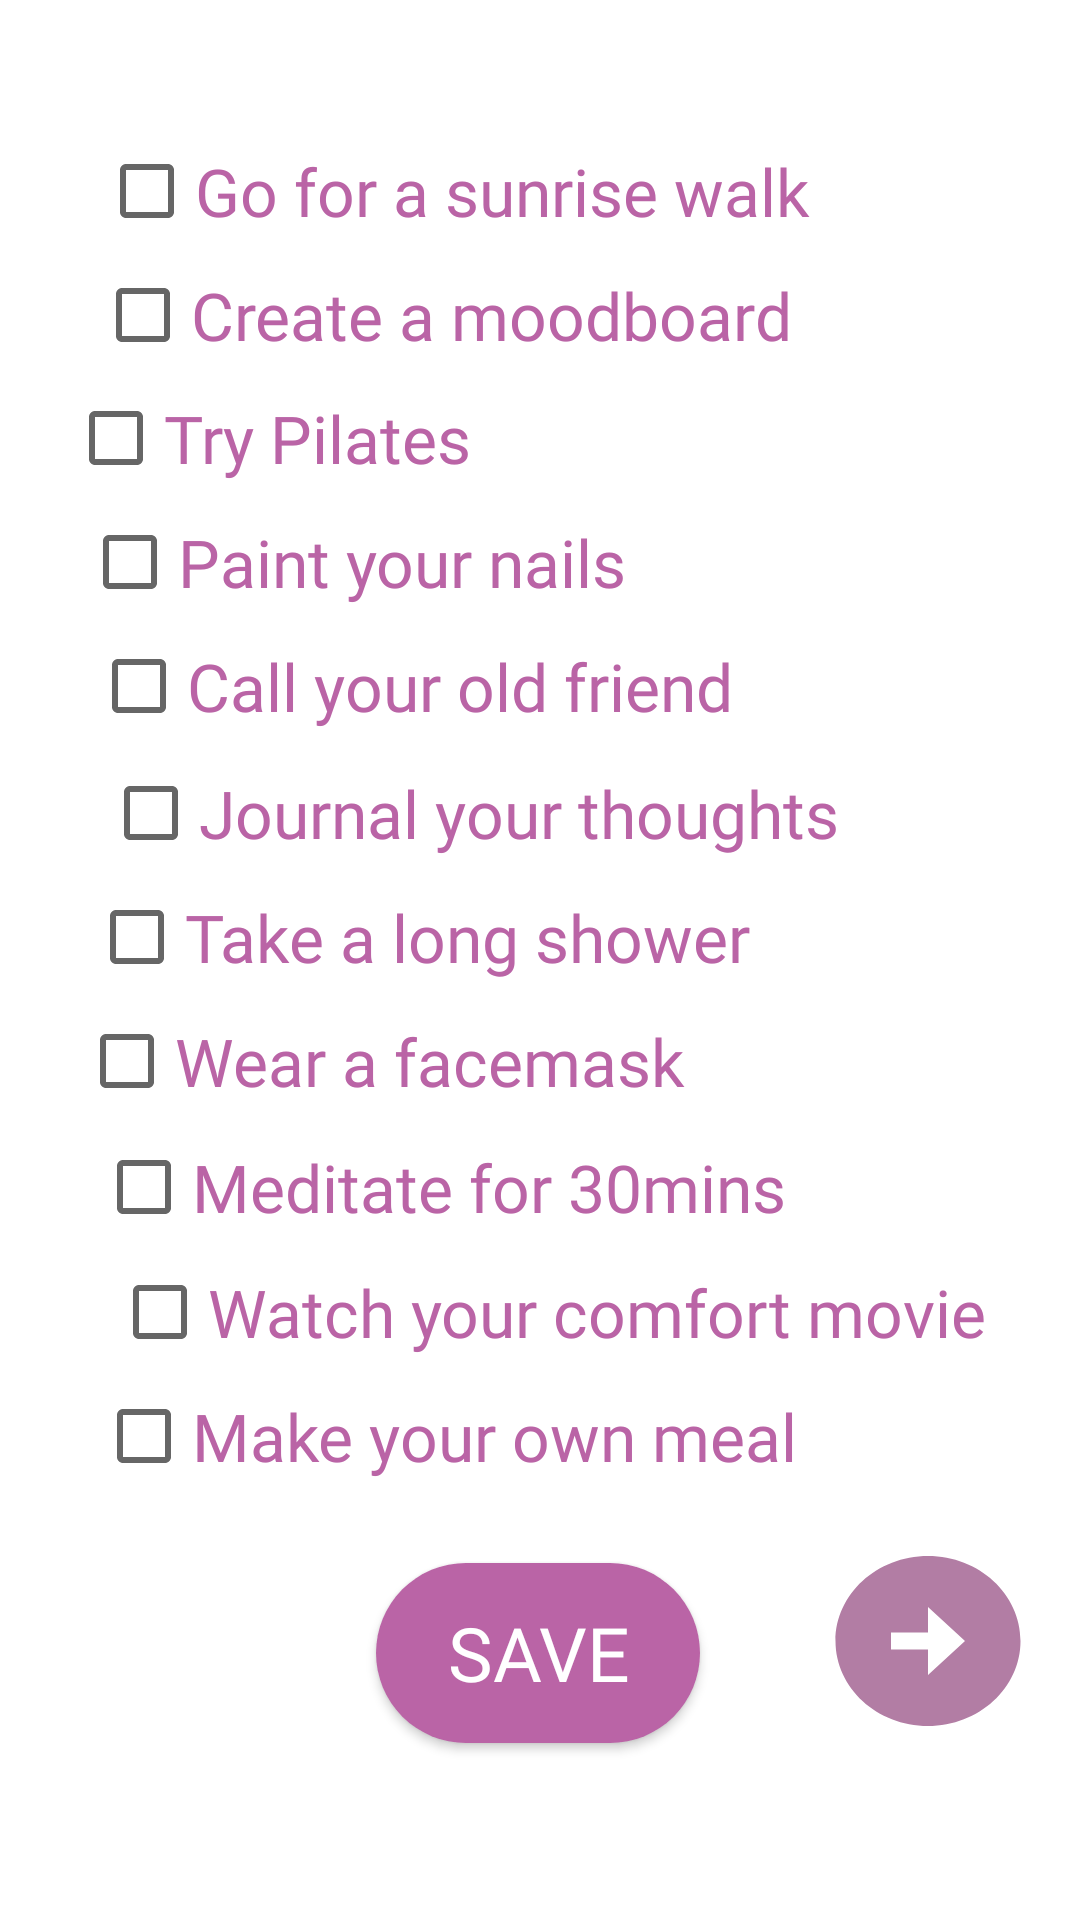

Icon click points for this 1080*1920 phone screenshot, format (x=x, y=y):
arrow circle right: (x=928, y=1641)
